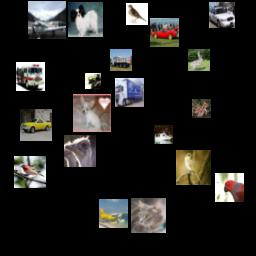airplane: (28, 1, 66, 39), (99, 199, 128, 228)
automobile: (20, 109, 52, 141), (150, 18, 179, 47), (209, 2, 235, 28)
bird: (176, 150, 211, 185), (14, 156, 46, 188), (64, 135, 96, 167), (215, 173, 244, 202), (188, 49, 210, 71), (126, 3, 148, 25)
cat: (131, 198, 166, 233)
dog: (73, 94, 111, 132), (68, 2, 103, 37)
frog: (192, 99, 211, 118)
ship: (154, 125, 173, 144)
truck: (115, 78, 144, 107), (16, 62, 45, 91), (110, 49, 132, 71)
